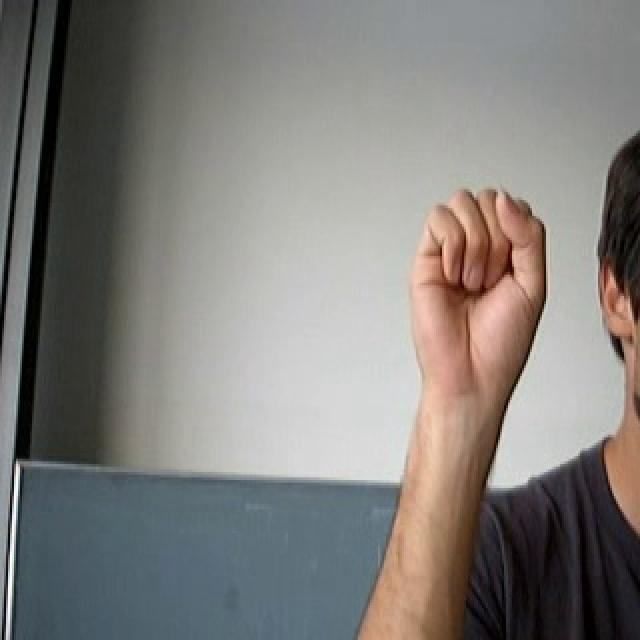S: (384, 167, 563, 417)
